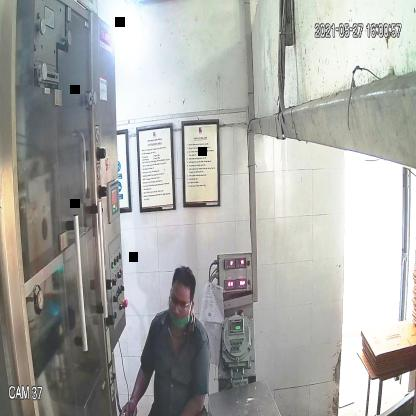goggles: (167, 290, 196, 317)
